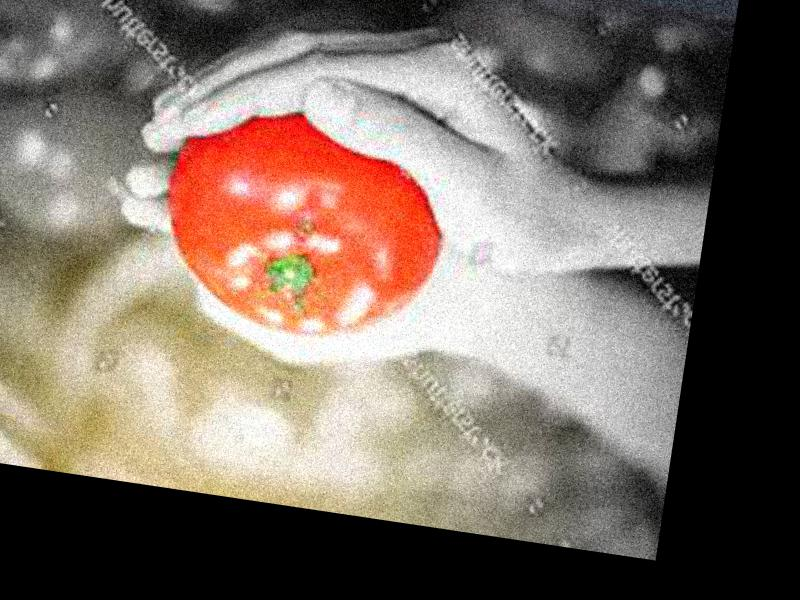Tomato: (152, 98, 456, 351)
